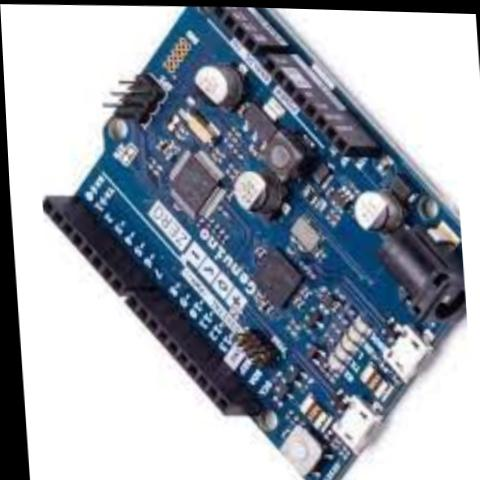Arduino-Zero: (33, 1, 472, 480)
